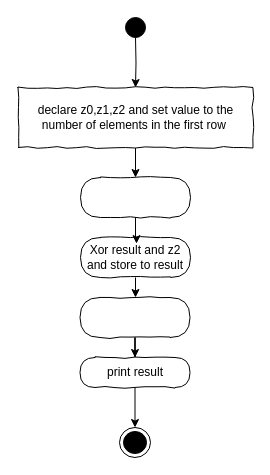
This 270x475 diagram has some shape labels left out. Here are the shapes that lost their labels. From the top down, the centre of each, then its label:
At pixel 135 197: "Xor z0 and z1 and store to result".
At pixel 134 317: "Xor result and z3 and store to result".
